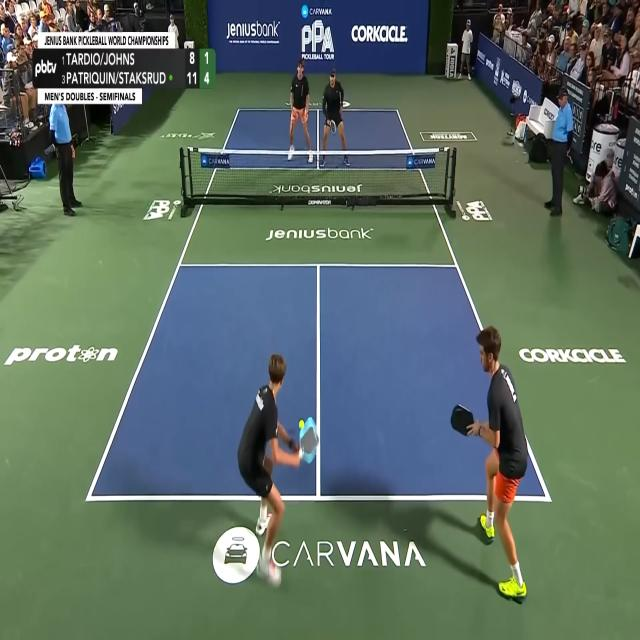ball: (298, 418, 304, 429)
